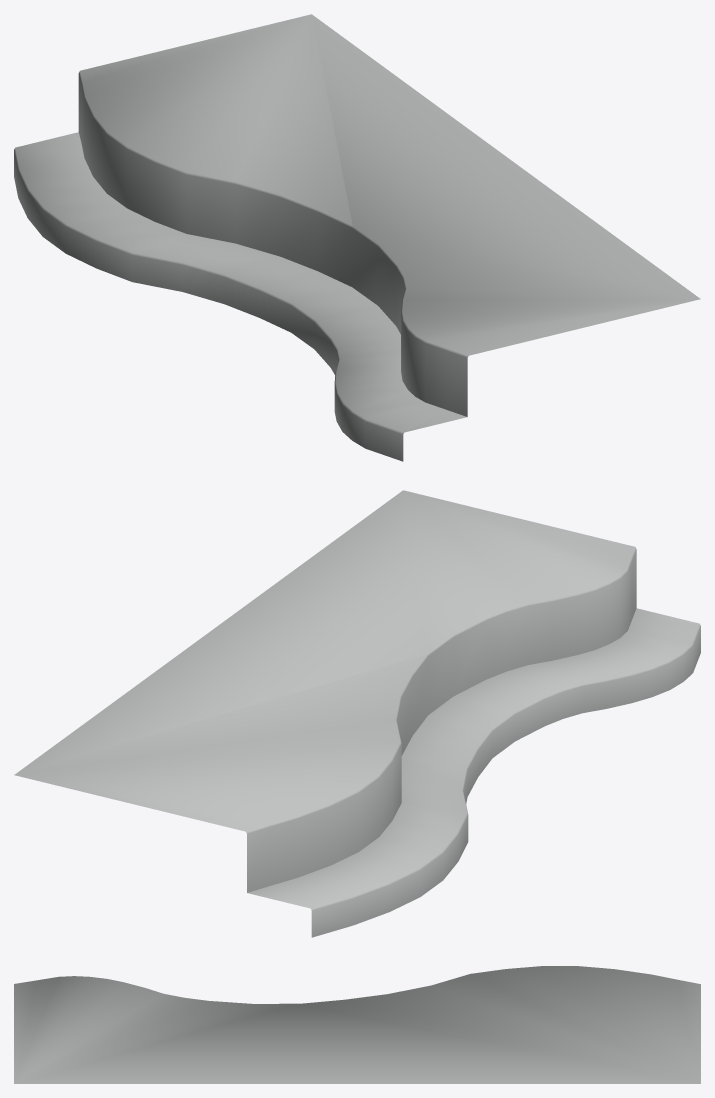
Rendered from M_taijie01.FBX.
3 views of the same model, one above another, from view 1: azimuth 30°, elevation 25°; view 2: azimuth 150°, elevation 25°; view 3: azimuth 270°, elevation 25° (orthographic). The views are drawn at different scales.
Parts seen in each view (by area): view 1: M_taijie01; view 2: M_taijie01; view 3: M_taijie01.
Boxes of the visible parts, box(x1,y1,x2,y2) form: M_taijie01: box(14, 14, 700, 461); M_taijie01: box(14, 490, 700, 937); M_taijie01: box(14, 966, 700, 1083).
Bounding box in the file's own units: 2.7 × 0.6876 × 5.39.
